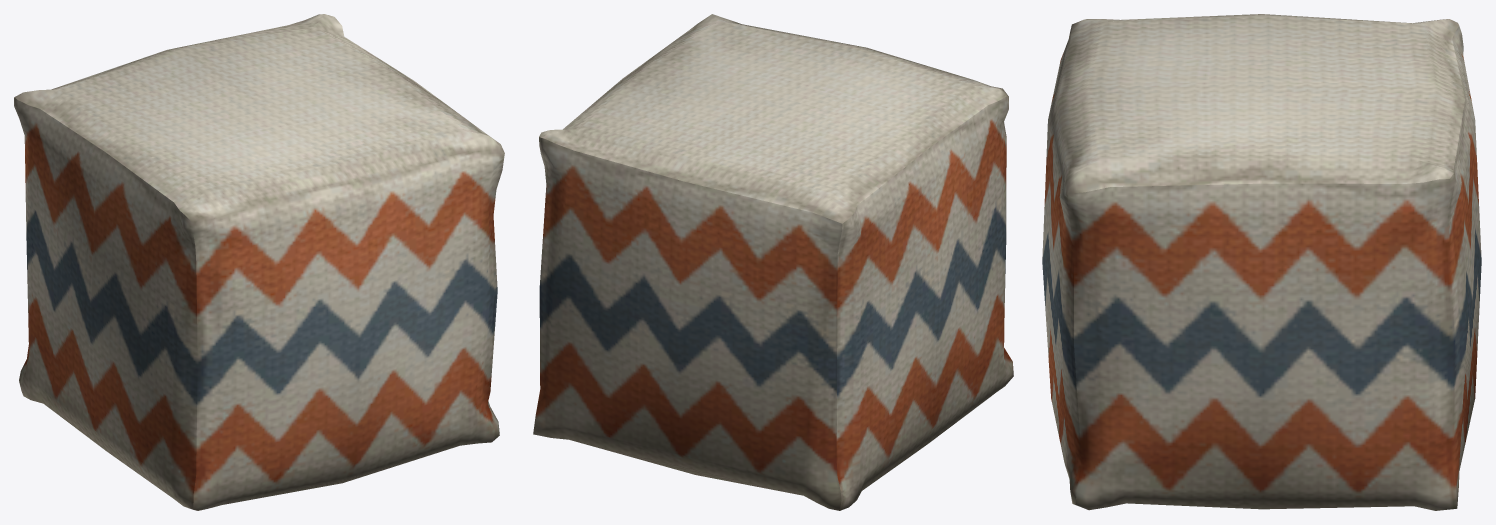
The model's file is 现代脚凳.glb.
3 views of the same model, side by side, from view 1: azimuth 30°, elevation 25°; view 2: azimuth 150°, elevation 25°; view 3: azimuth 270°, elevation 25° (orthographic). The views are drawn at different scales.
Parts seen in each view (by area): view 1: TinyLiving_ModernPouffe_36; view 2: TinyLiving_ModernPouffe_36; view 3: TinyLiving_ModernPouffe_36.
Part boxes in pixels (x1,y1,x2,y2): TinyLiving_ModernPouffe_36: [14, 14, 504, 510]; TinyLiving_ModernPouffe_36: [533, 14, 1013, 510]; TinyLiving_ModernPouffe_36: [1042, 14, 1481, 510].
Bounding box in the file's own units: 0.5939 × 0.529 × 0.6043.
Materials: 1 (1 with a texture image).
